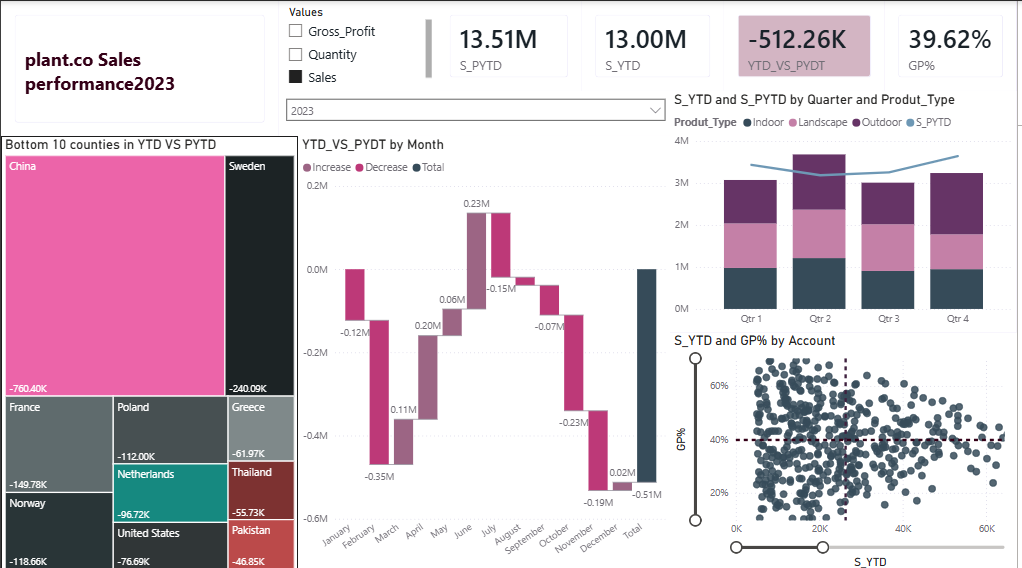

The page's visual inventory and layout, read from the dashboard file:
{"tool":"powerbi","page":{"name":"Performance Report","canvas":[1280,720],"ordinal":0},"visuals":[{"type":"cardVisual","fields":{"Data":["Measuress.S_YTD"]},"box":[731.3,0,179.5,113.4],"z":0},{"type":"cardVisual","fields":{"Data":["Measuress.YTD_VS_PYDT"]},"box":[910.9,0,202.2,113.4],"z":1000},{"type":"cardVisual","fields":{"Data":["Measuress.S_PYTD"]},"box":[548,0,183.3,113.4],"z":2000},{"type":"slicer","fields":{"Values":["SLC_values (2).Values"]},"box":[349.6,0,198.4,113.4],"z":3000},{"type":"slicer","fields":{"Values":["Dim_Date.Date.Variation.Date Hierarchy.Year"]},"box":[349.6,113.4,497,56.7],"z":4000},{"type":"waterfallChart","fields":{"Y":["Measuress.YTD_VS_PYDT"],"Category":["Dim_Date.Date.Variation.Date Hierarchy.Month","Accounts_dim.country","Product_dim.Produt_Type","Product_dim.Product_Name_id"]},"box":[374.2,170.1,468.7,549.9],"z":5000},{"type":"treemap","title":"Bottom 10 counties in YTD VS PYTD","fields":{"Details":["Accounts_dim.country"],"Values":["Measuress.YTD_VS_PYDT"]},"box":[0,170.1,374.2,549.9],"z":6000},{"type":"lineStackedColumnComboChart","fields":{"Y":["Measuress.S_YTD"],"Y2":["Measuress.S_PYTD"],"Category":["Dim_Date.Date.Variation.Date Hierarchy.Quarter","Dim_Date.Date.Variation.Date Hierarchy.Month"],"Series":["Product_dim.Produt_Type"]},"box":[842.8,113.4,436.5,304.3],"z":7000},{"type":"cardVisual","fields":{"Data":["Measuress.GP%"]},"box":[1113.1,0,166.3,113.4],"z":8000},{"type":"scatterChart","fields":{"Y":["Measuress.GP%"],"X":["Measuress.S_YTD"],"Category":["Accounts_dim.Account"]},"box":[842.8,417.6,436.5,302.4],"z":8001},{"type":"cardVisual","fields":{"Data":["Measuress.Title"]},"box":[0,0,349.6,170.1],"z":8002}]}

Visuals, with their boxes in screenshot pixels (x1, y1, x2, y2), scaled from the page's 1280x720 canvas onto the 1022x568 screenshot:
cardVisual - Measuress.S_YTD: 584/0/727/89
cardVisual - Measuress.YTD_VS_PYDT: 727/0/889/89
cardVisual - Measuress.S_PYTD: 438/0/584/89
slicer - SLC_values (2).Values: 279/0/438/89
slicer - Dim_Date.Date.Variation.Date Hierarchy.Year: 279/89/676/134
waterfallChart - Measuress.YTD_VS_PYDT x Dim_Date.Date.Variation.Date Hierarchy.Month: 299/134/673/567
"Bottom 10 counties in YTD VS PYTD" treemap: 0/134/299/567
lineStackedColumnComboChart - Measuress.S_YTD x Measuress.S_PYTD: 673/89/1021/330
cardVisual - Measuress.GP%: 889/0/1021/89
scatterChart - Measuress.GP% x Measuress.S_YTD: 673/329/1021/567
cardVisual - Measuress.Title: 0/0/279/134
